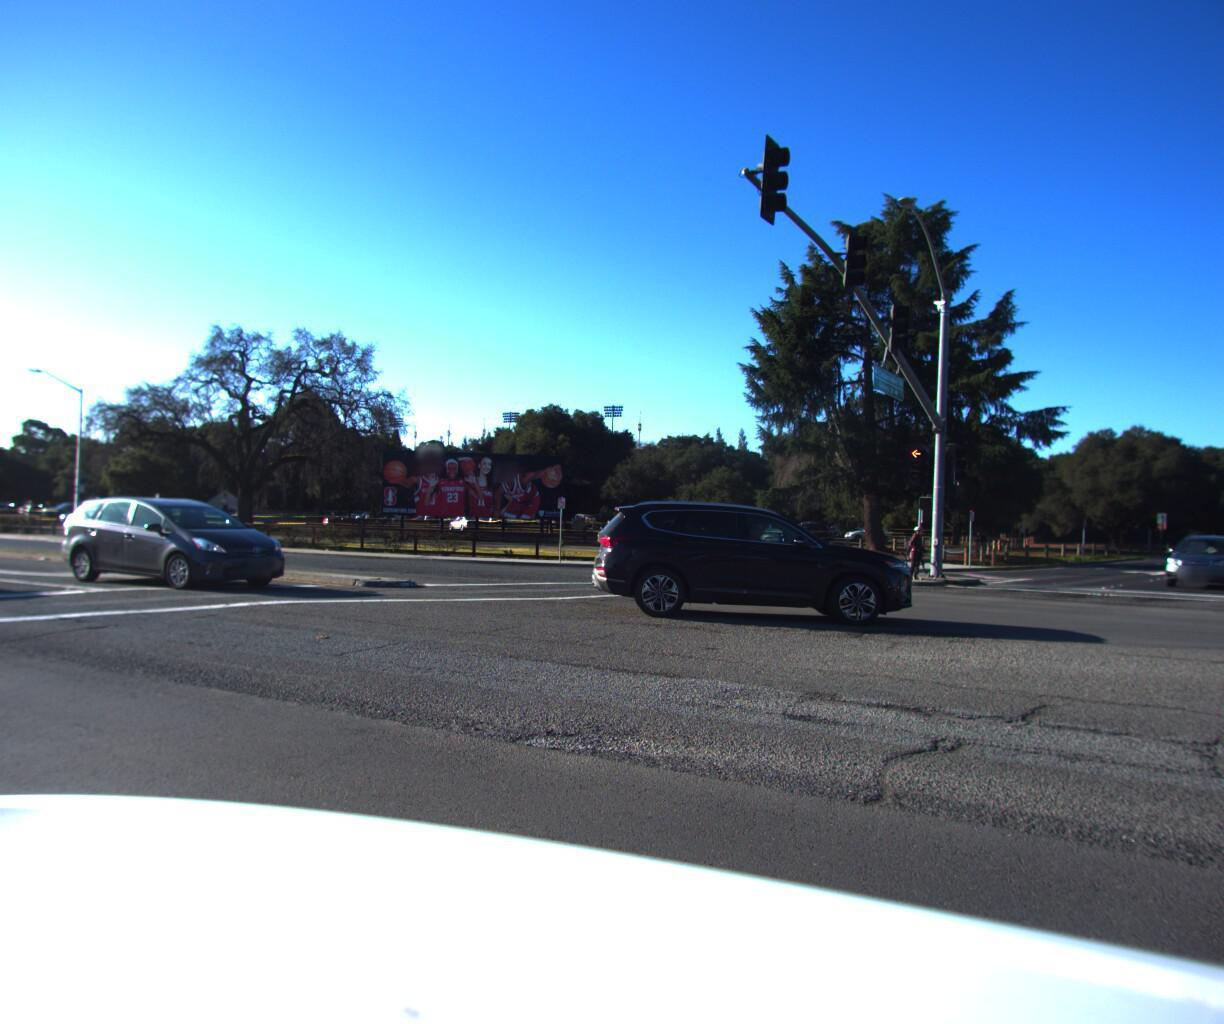bicycle: (876, 518, 948, 580)
car: (591, 488, 930, 625), (45, 486, 305, 590), (1150, 528, 1224, 586)
